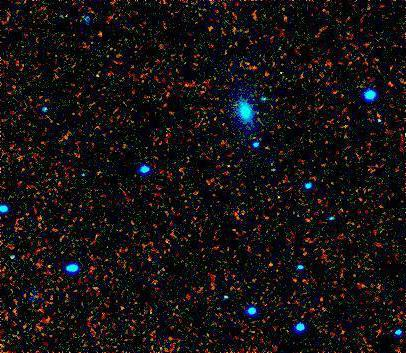star: (256, 249, 286, 279)
